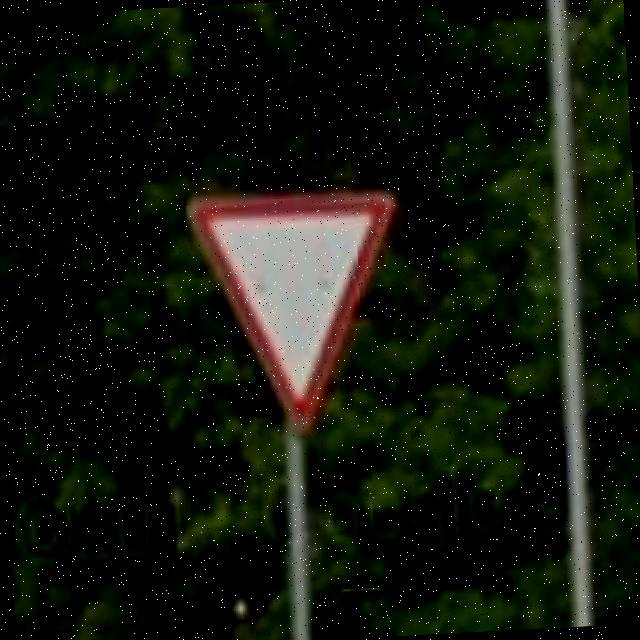Ustap pierwszenstwa: (184, 186, 408, 440)
